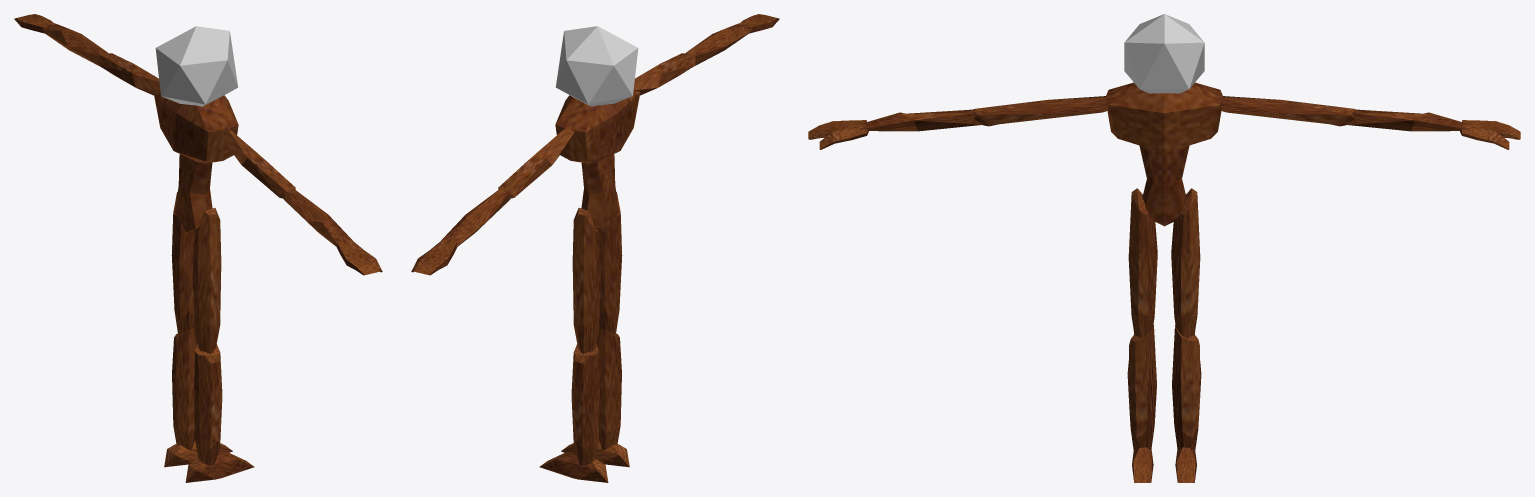
Rendered from EnemyJohn.fbx.
The picture shows the model from 3 angles, left to right: view 1: azimuth 30°, elevation 25°; view 2: azimuth 150°, elevation 25°; view 3: azimuth 270°, elevation 25°; orthographic projection.
Parts seen in each view (by area): view 1: calf; view 2: calf; view 3: calf.
Part boxes in pixels (box(x1,y1,x2,y2)): calf: box(14, 14, 382, 482); calf: box(411, 14, 779, 482); calf: box(808, 14, 1520, 482).
Size of the model in its own units: 196 by 1064 by 1511.
